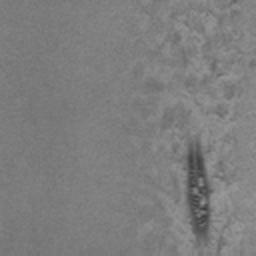Oxide scale of plate system: (184, 134, 218, 242)
